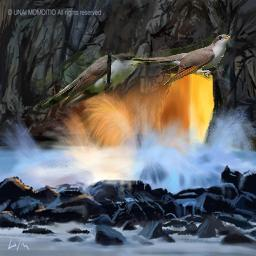Cuckoo: (33, 51, 144, 109), (130, 34, 230, 85)
